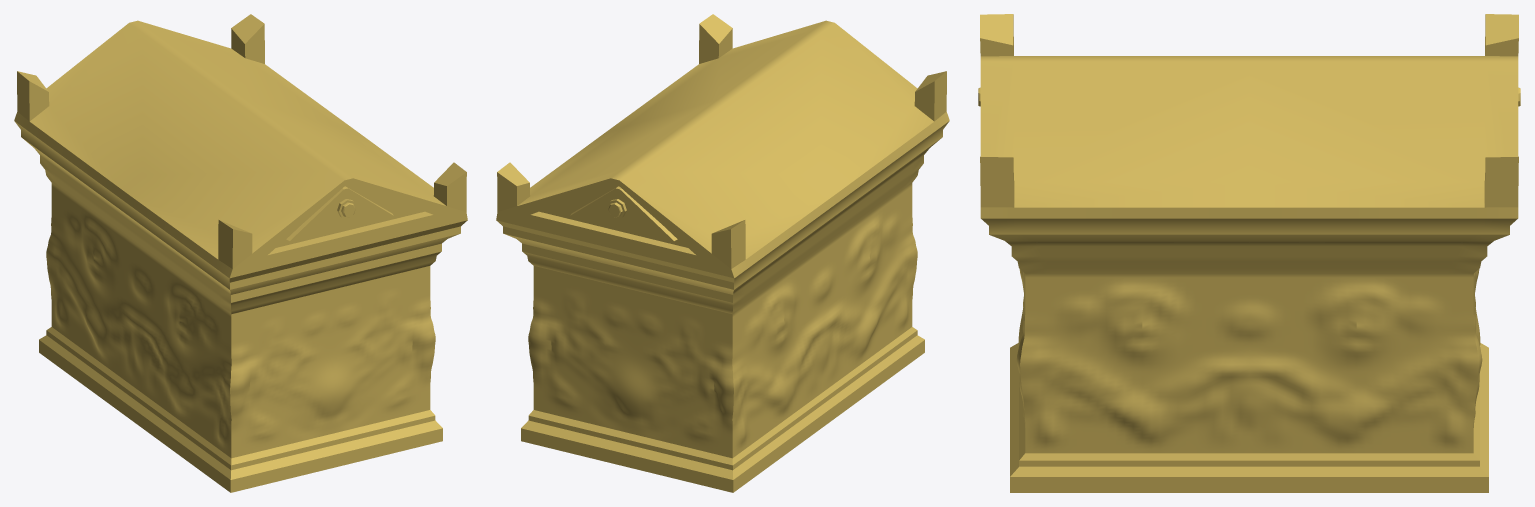
Rendered from 1son.fbx.
3 renders of one model, left to right at view 1: azimuth 30°, elevation 25°; view 2: azimuth 150°, elevation 25°; view 3: azimuth 270°, elevation 25°, orthographic. The views are drawn at different scales.
Parts seen in each view (by area): view 1: 1fin; view 2: 1fin; view 3: 1fin.
Part boxes in pixels (bbox=[...]): 1fin: bbox=[14, 14, 467, 492]; 1fin: bbox=[496, 14, 949, 492]; 1fin: bbox=[978, 14, 1520, 492].
Size of the model in its own units: 356 by 562 by 423.
